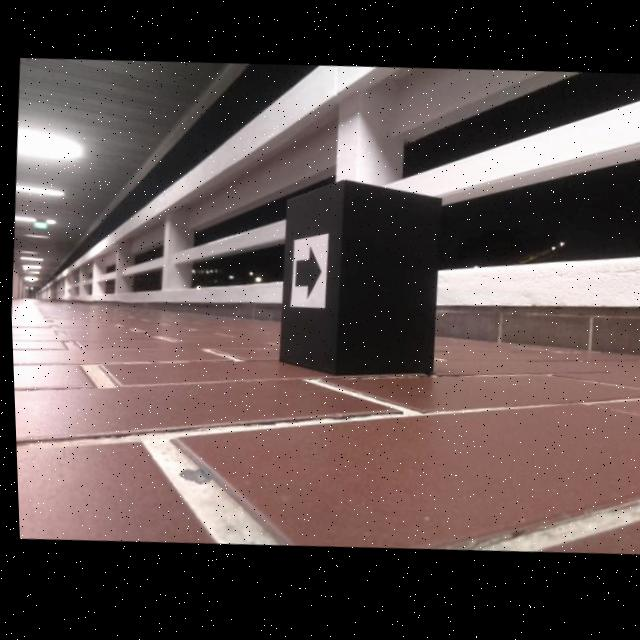RIGHT: (294, 249, 319, 301)
